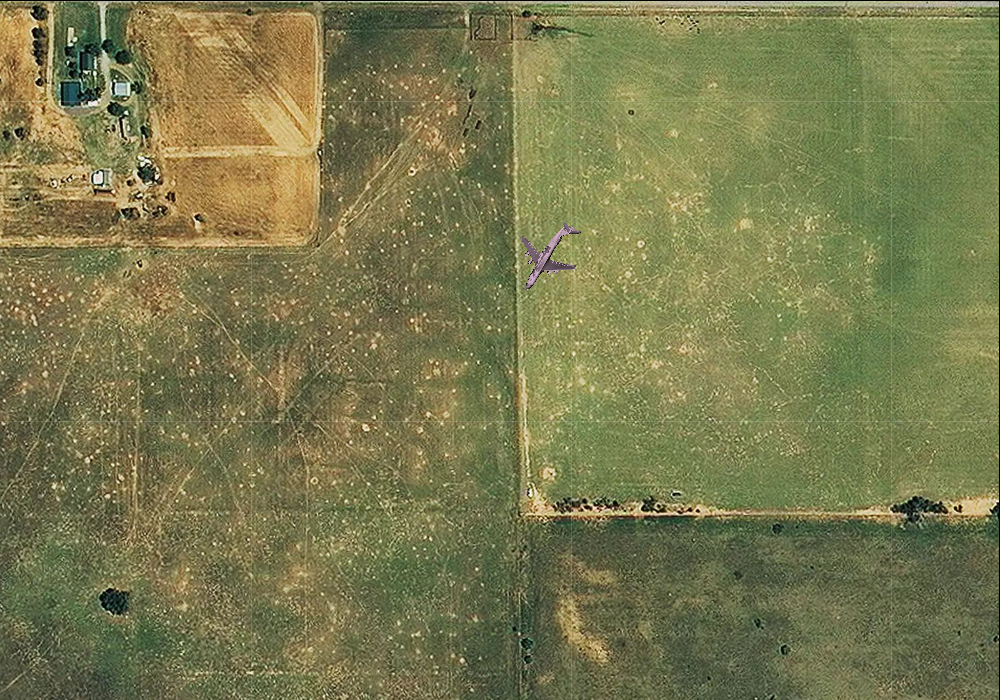plane: (498, 204, 600, 309)
